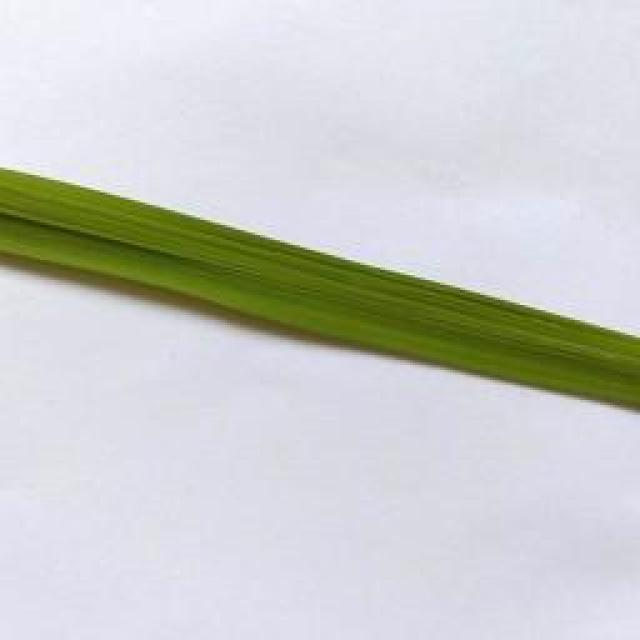Healthy-Plant: (0, 147, 640, 424)
